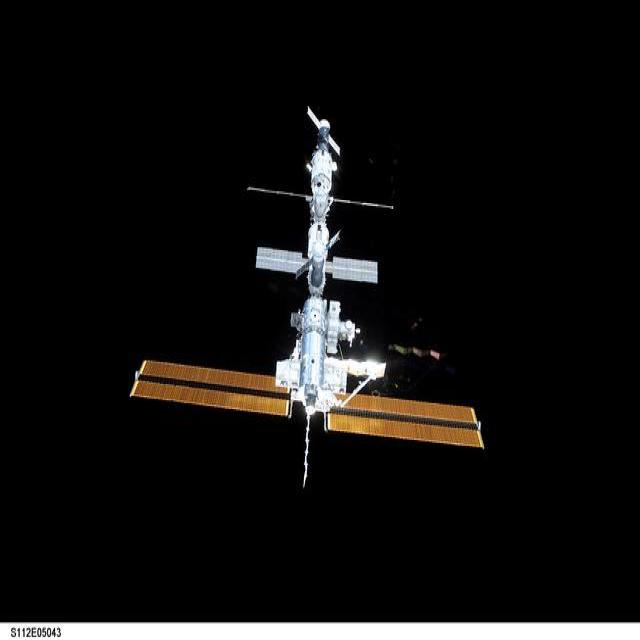satellite: (130, 109, 484, 479), (389, 347, 442, 360)
